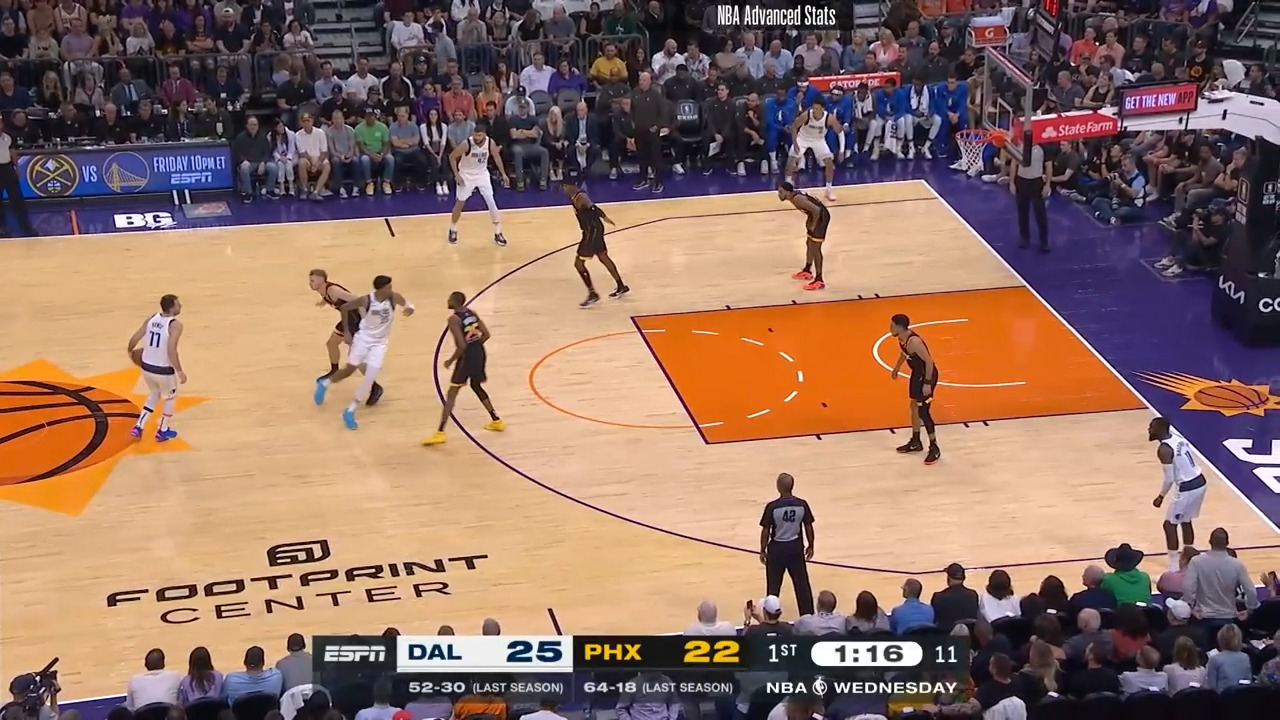net: (950, 121, 1012, 176)
player: (420, 290, 505, 453), (541, 176, 630, 312), (124, 293, 192, 455), (870, 314, 940, 469), (349, 272, 416, 428), (303, 268, 369, 423), (1141, 412, 1213, 553), (441, 126, 507, 250), (775, 98, 850, 197), (768, 180, 830, 298)
referee: (758, 471, 823, 619), (1005, 135, 1060, 267), (0, 117, 39, 239)
